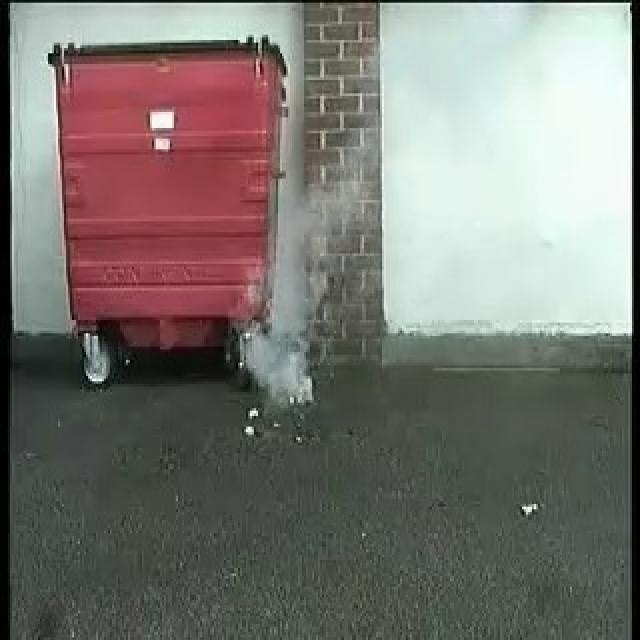smoke: (240, 193, 360, 404)
